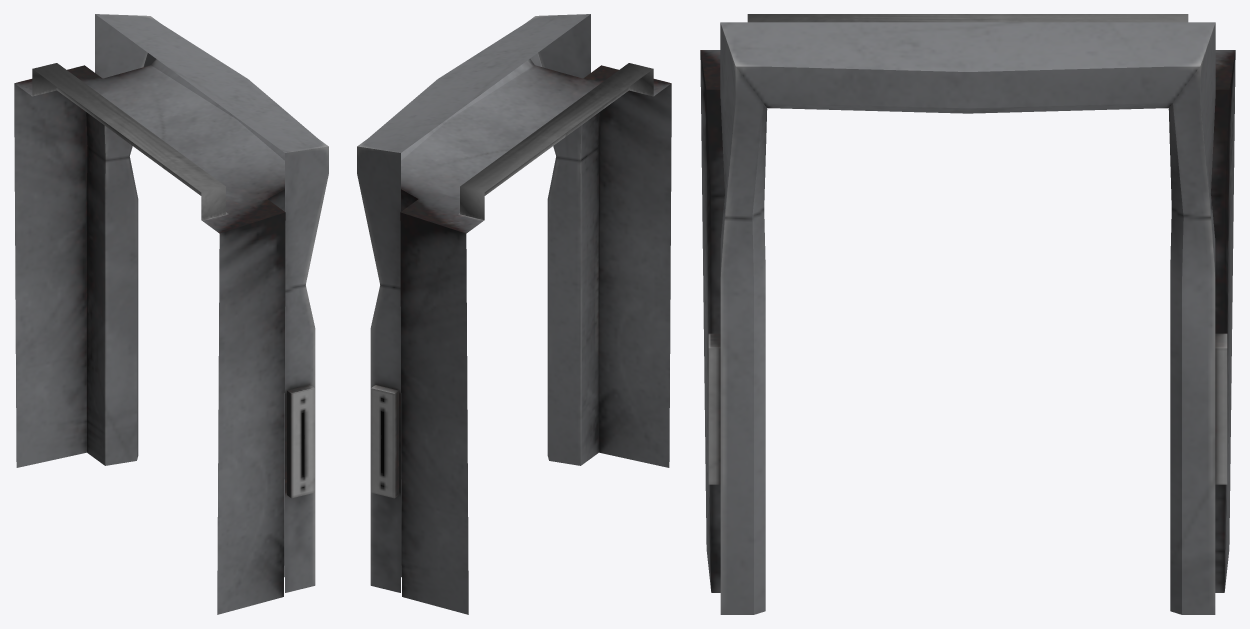
Rendered from VR_DoorFrame_3x.fbx.
The picture shows the model from 3 angles, left to right: view 1: azimuth 30°, elevation 25°; view 2: azimuth 150°, elevation 25°; view 3: azimuth 270°, elevation 25°; orthographic projection. The views are drawn at different scales.
Visible parts, largest first — view 1: Plane.060; view 2: Plane.060; view 3: Plane.060.
Part boxes in pixels (box(x1,y1,x2,y2)): Plane.060: box(14, 14, 328, 614); Plane.060: box(357, 14, 671, 614); Plane.060: box(700, 14, 1235, 614).
Bounding box in the file's own units: 0.8978 × 2.87 × 2.43.
